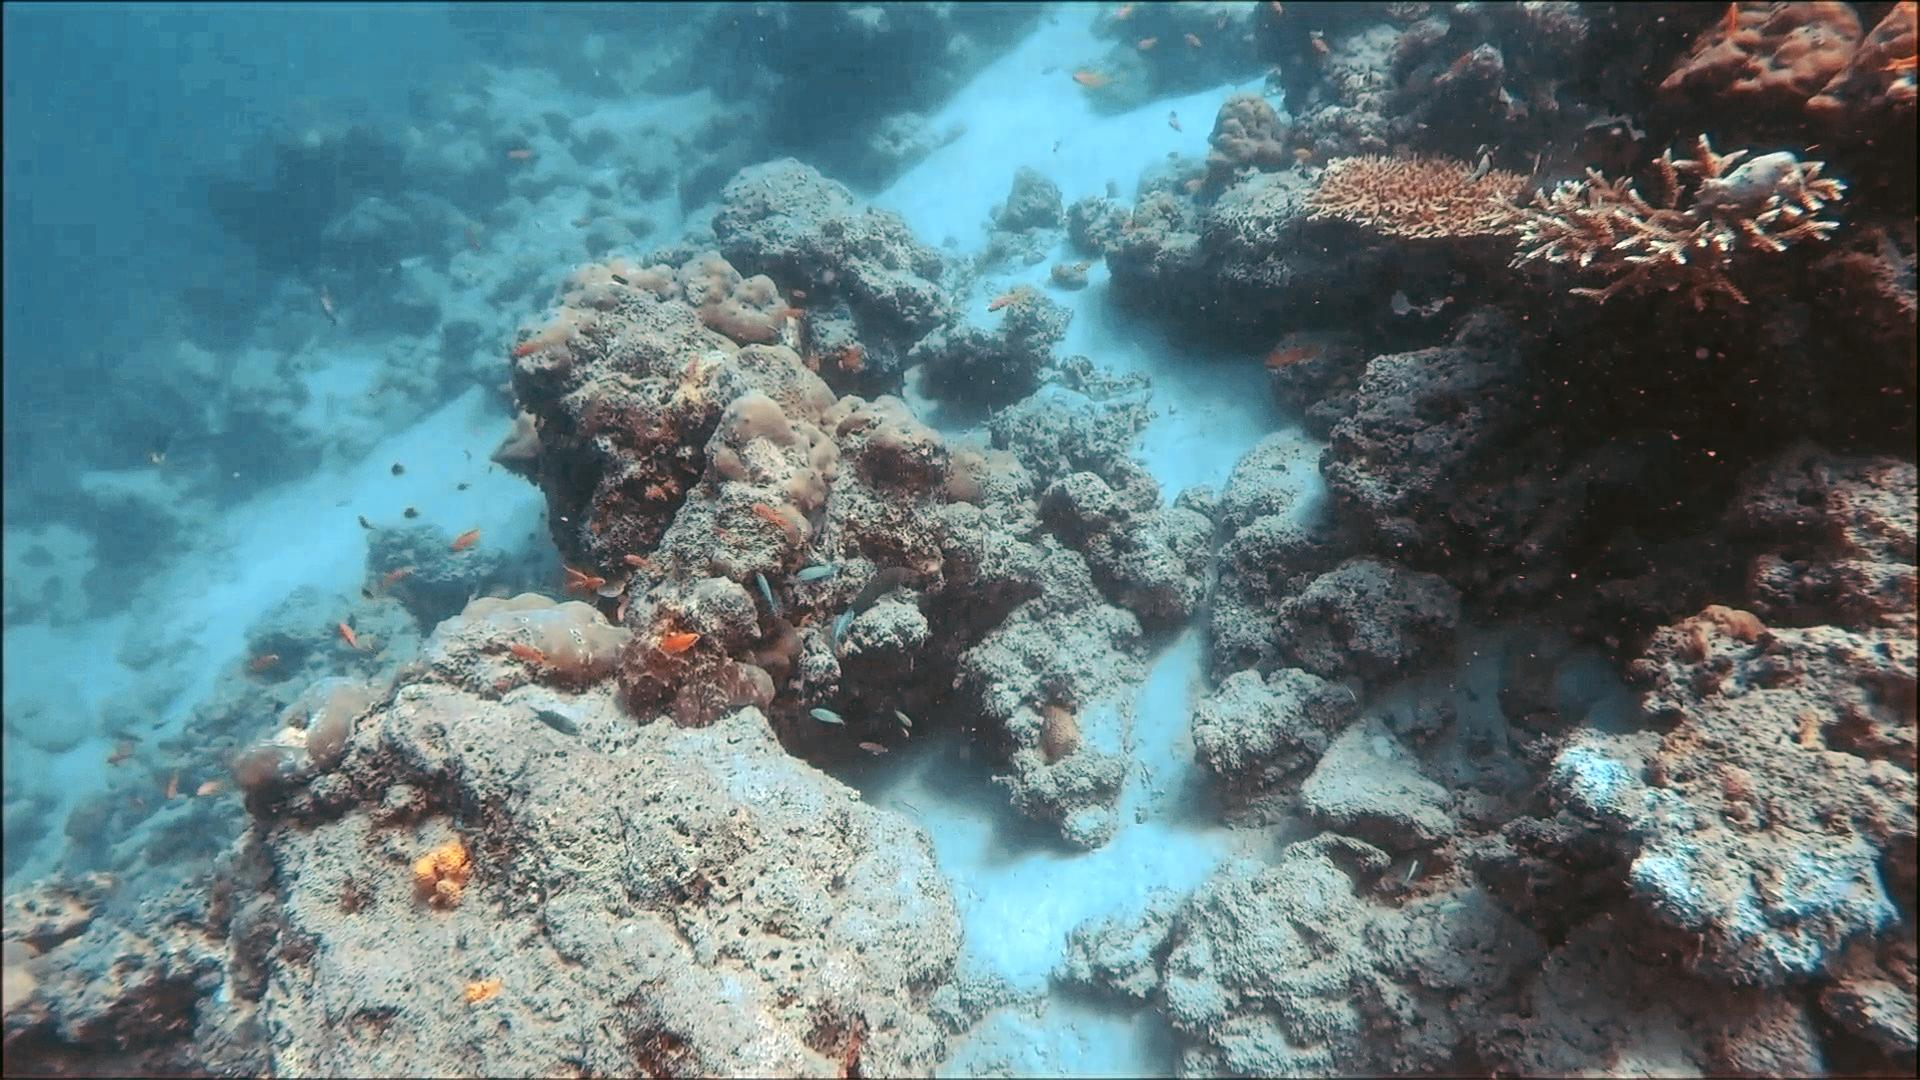Porites-Porites pukoensis: (650, 236, 872, 558)
